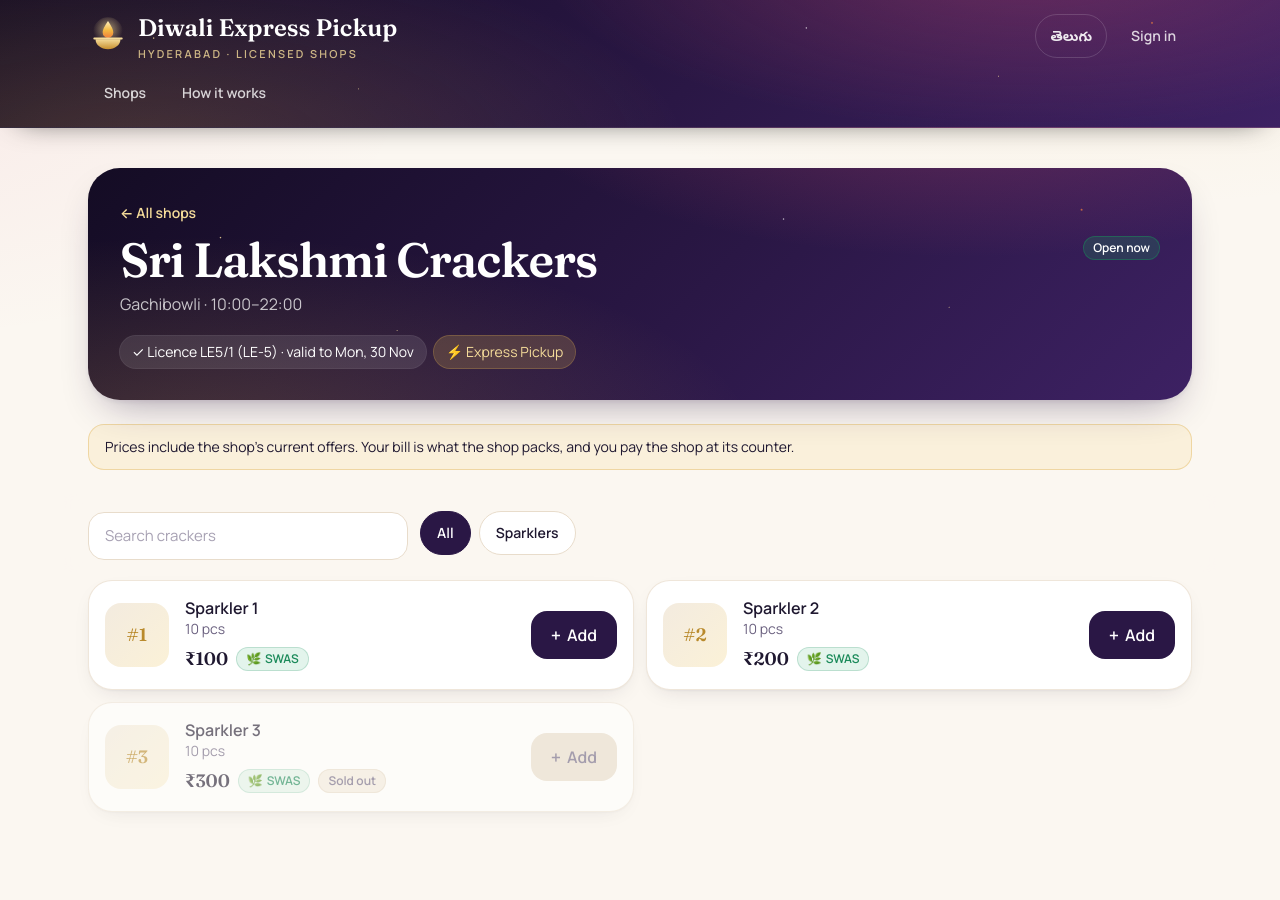
Scenario: building an order › adding items stays on the phone until the order is placed
Click the button with aria-label "Add Sparkler 1" at (574, 635), box x1=531 y1=611 x2=617 y2=659
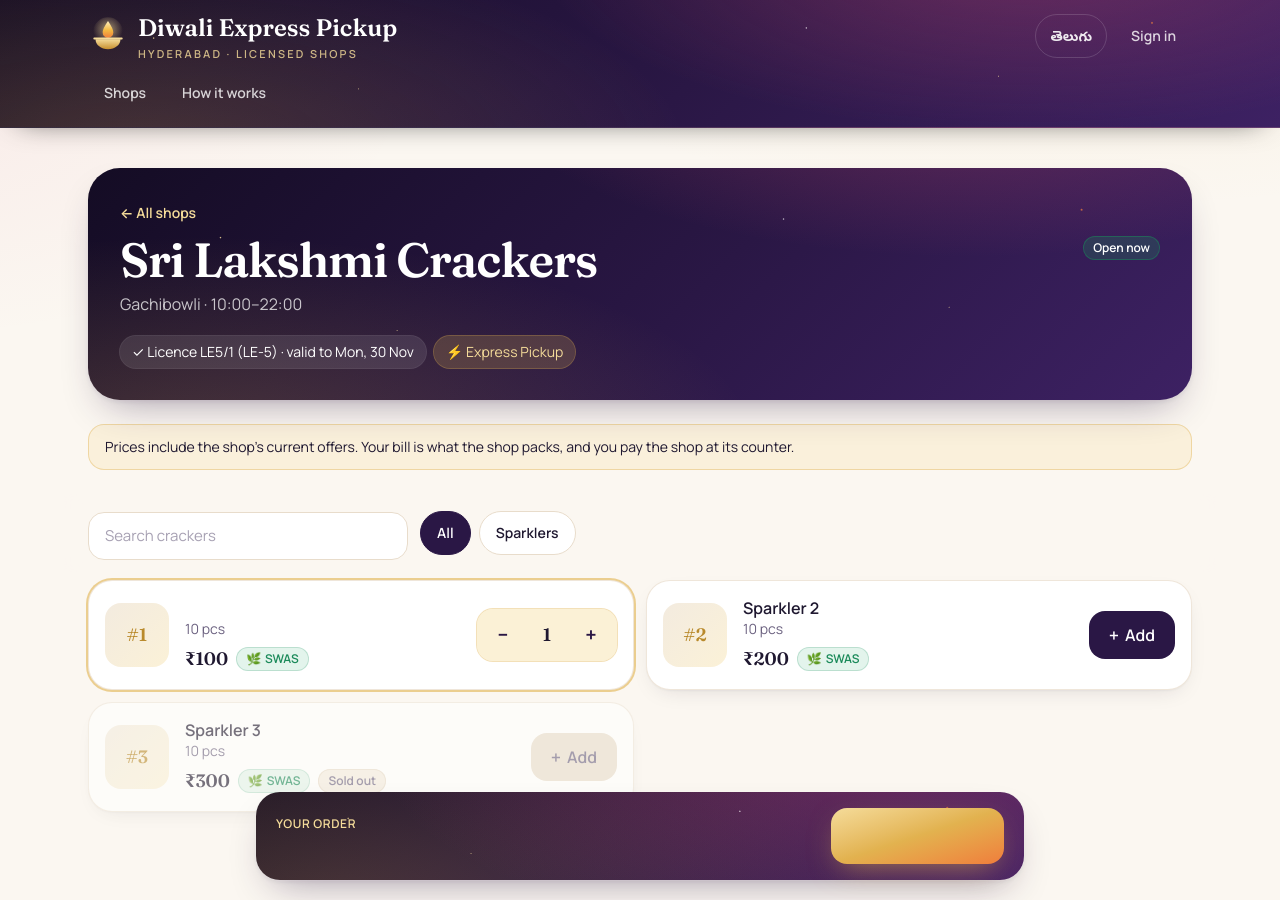
Click the button named "One more Sparkler 1" at (591, 635), box x1=567 y1=611 x2=615 y2=659
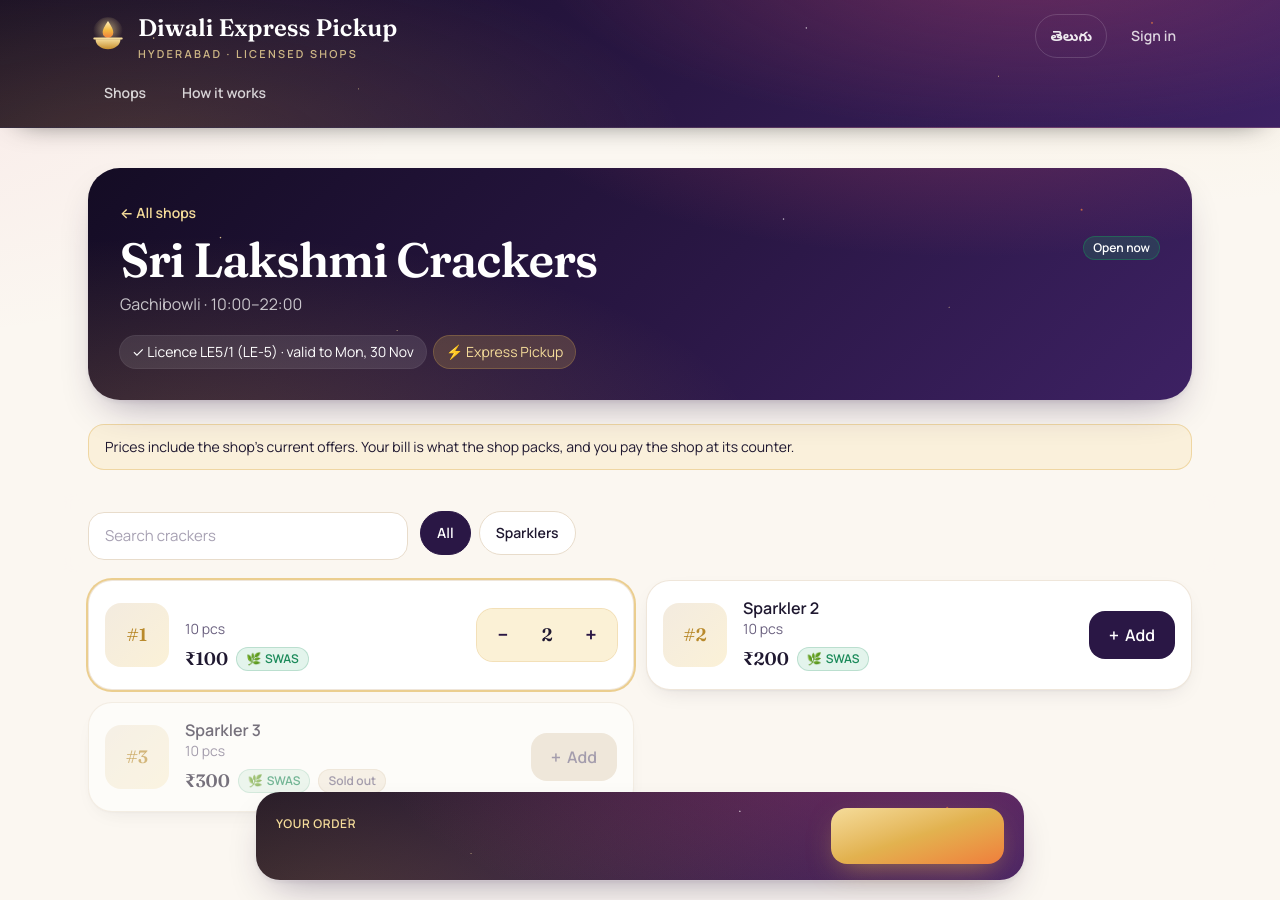
Click the button with aria-label "Add Sparkler 2" at (1132, 635), box x1=1089 y1=611 x2=1175 y2=659
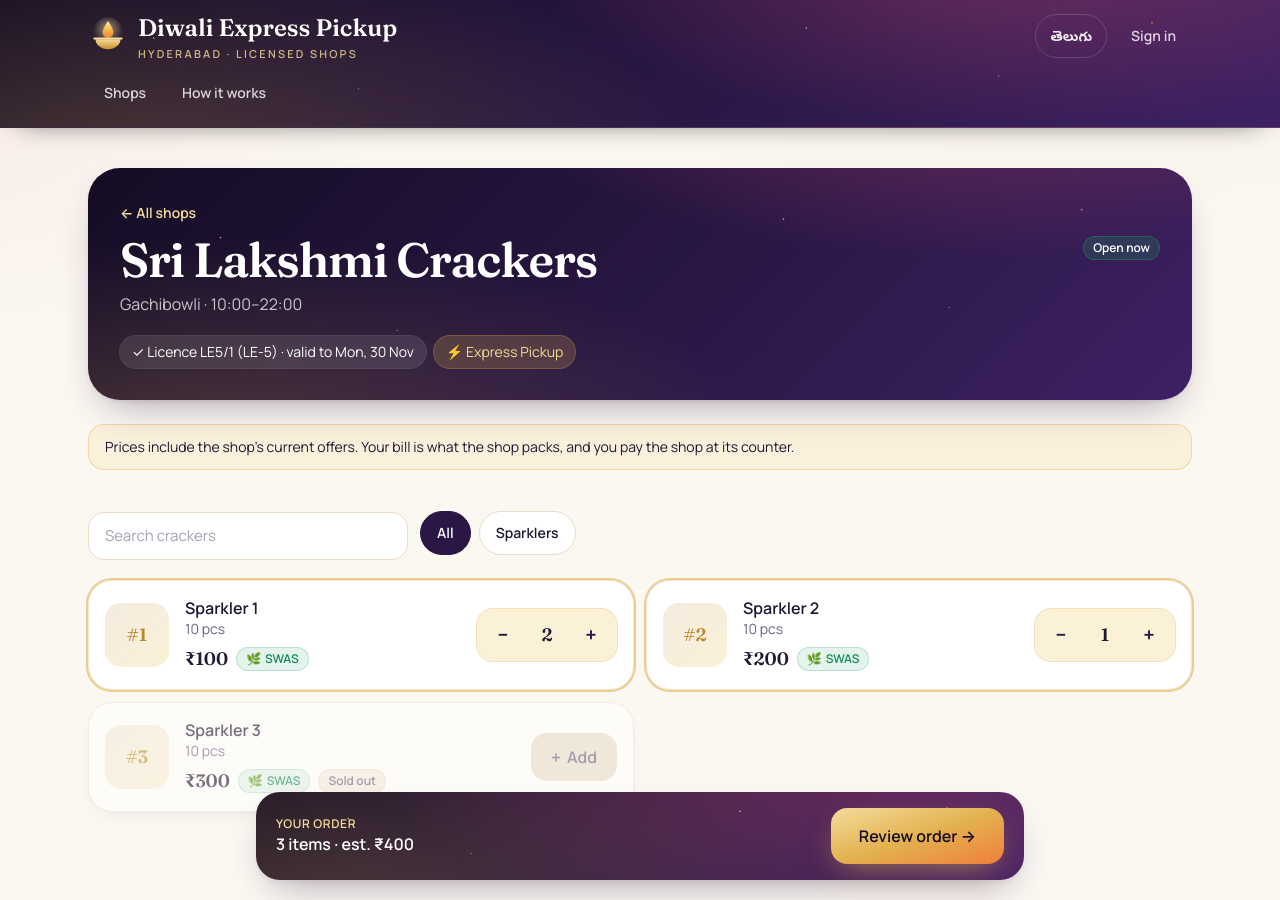
Expected: the text "3 items · est. ₹400" is shown, x1=276 y1=832 x2=414 y2=856
